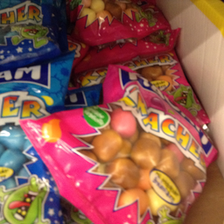candy: (31, 76, 206, 218), (74, 2, 166, 49)
